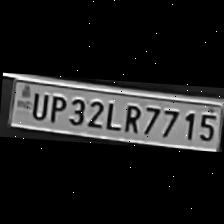1: (178, 109, 197, 140)
2: (85, 97, 105, 128)
3: (65, 95, 85, 126)
5: (195, 109, 216, 142)
7: (155, 105, 178, 138), (140, 102, 160, 134)
L: (102, 99, 122, 130)
P: (44, 92, 66, 122)
R: (120, 102, 141, 133)
U: (26, 90, 47, 120)
